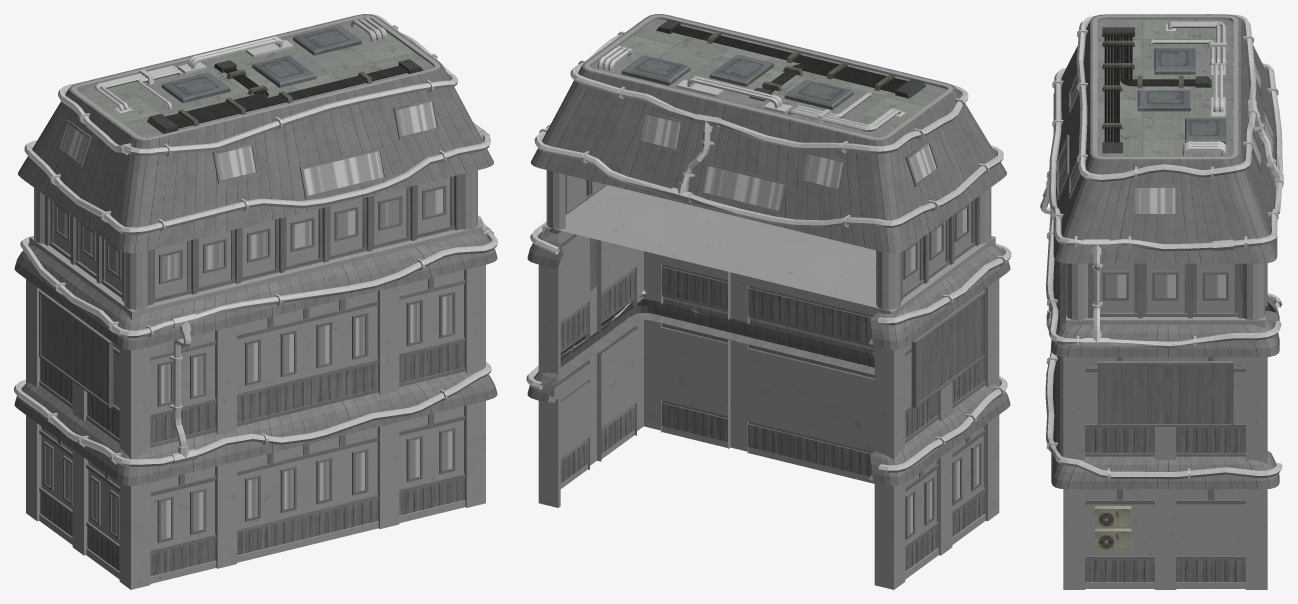
Rendered from REDUCTION_SM_ENV_KNVLLG_CommonBuilding_C_1.mo.fbx.
The picture shows the model from 3 angles, left to right: view 1: azimuth 30°, elevation 25°; view 2: azimuth 150°, elevation 25°; view 3: azimuth 270°, elevation 25°; orthographic projection. The views are drawn at different scales.
Parts seen in each view (by area): view 1: REDUCTION_SM_ENV_KNVLLG_CommonBuilding_C_1.mo; view 2: REDUCTION_SM_ENV_KNVLLG_CommonBuilding_C_1.mo; view 3: REDUCTION_SM_ENV_KNVLLG_CommonBuilding_C_1.mo.
Boxes of the visible parts, left/top/right/bottom form: REDUCTION_SM_ENV_KNVLLG_CommonBuilding_C_1.mo: left=14, top=14, right=497, bottom=589; REDUCTION_SM_ENV_KNVLLG_CommonBuilding_C_1.mo: left=526, top=14, right=1011, bottom=589; REDUCTION_SM_ENV_KNVLLG_CommonBuilding_C_1.mo: left=1040, top=14, right=1283, bottom=589.
Bounding box in the file's own units: 17.83 × 19.4 × 10.03.
